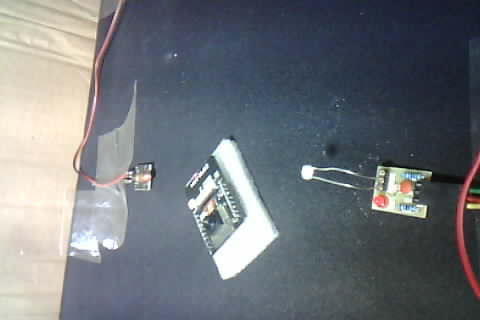esp32: (179, 139, 268, 258)
